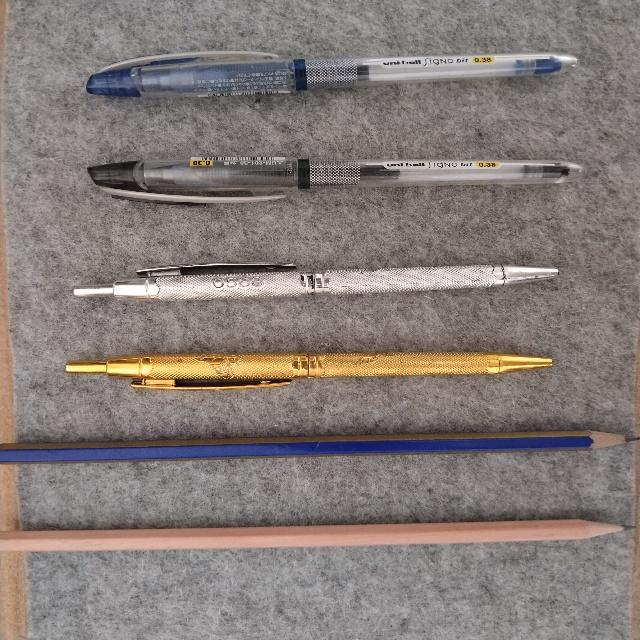pen: (88, 156, 581, 202), (86, 51, 577, 96)
pencil: (0, 431, 626, 463), (0, 519, 623, 551)
signature pen: (66, 352, 551, 389), (74, 263, 557, 300)
